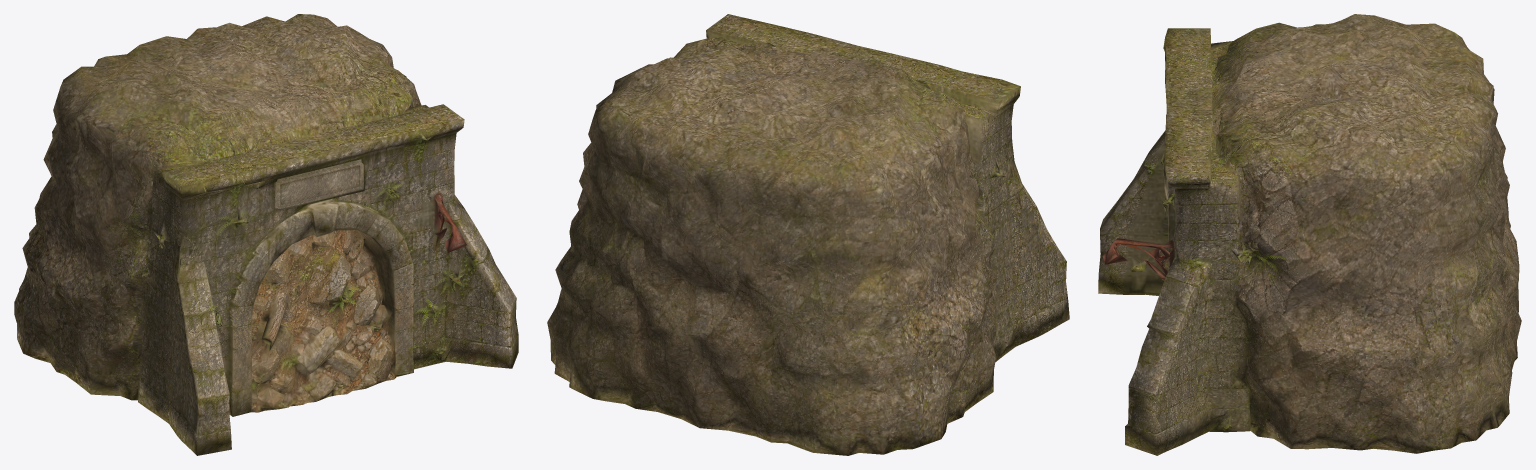
The model's file is tunnel_portal.glb.
3 views of the same model, side by side, from view 1: azimuth 30°, elevation 25°; view 2: azimuth 150°, elevation 25°; view 3: azimuth 270°, elevation 25° (orthographic). The views are drawn at different scales.
Parts seen in each view (by area): view 1: stone arch ruin 3d model; view 2: stone arch ruin 3d model; view 3: stone arch ruin 3d model.
Boxes of the visible parts, <box> form: stone arch ruin 3d model: <box>14,14,518,455</box>; stone arch ruin 3d model: <box>547,14,1069,455</box>; stone arch ruin 3d model: <box>1098,14,1521,455</box>.
Size of the model in its own units: 8.5 by 6 by 7.87.
1 material, 1 textured.
